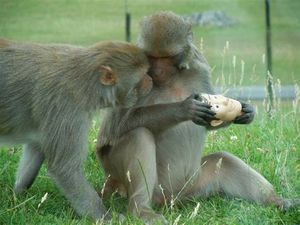monkey: (122, 5, 273, 210), (3, 9, 143, 205)
